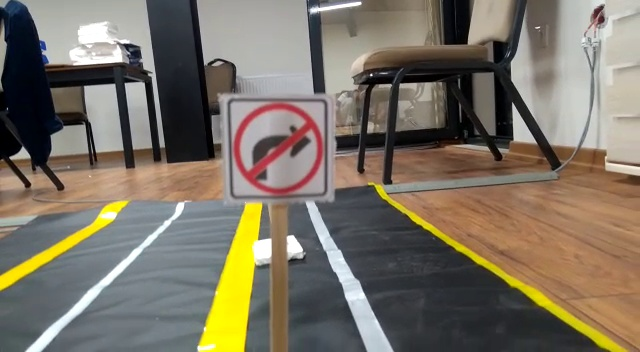saga_donulmez: (231, 99, 332, 201)
